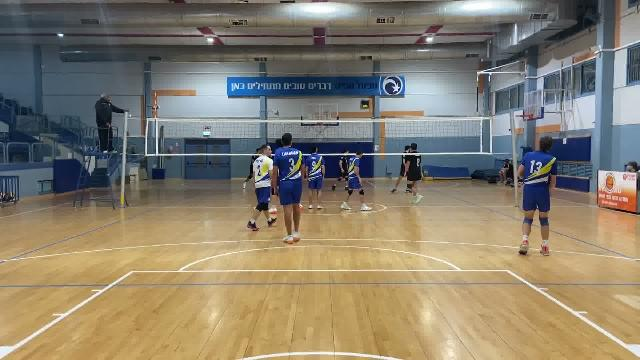ball: (422, 169, 429, 176)
